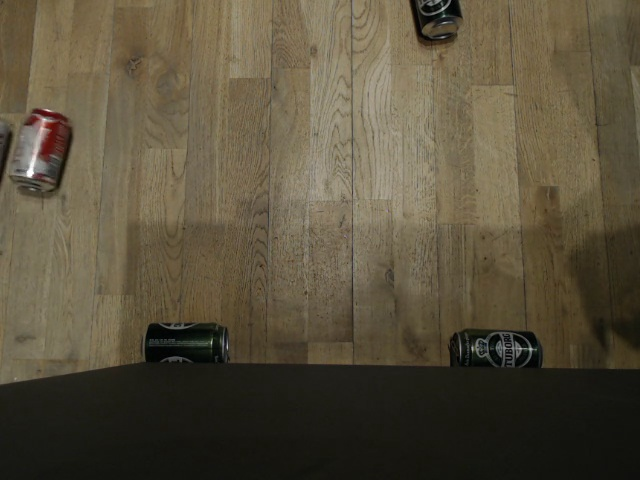beer: (446, 326, 546, 371), (138, 323, 228, 366), (408, 0, 460, 45)
cola: (6, 107, 74, 192), (0, 113, 14, 194)
